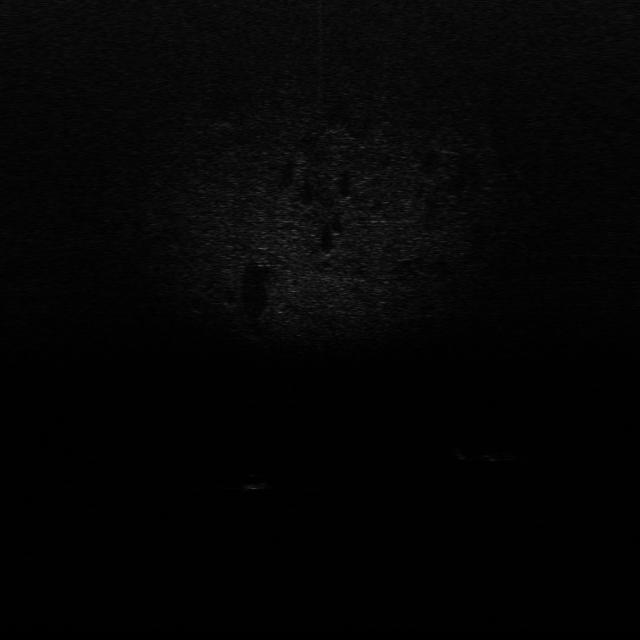ball: (238, 469, 270, 493)
human body: (449, 444, 522, 466)
